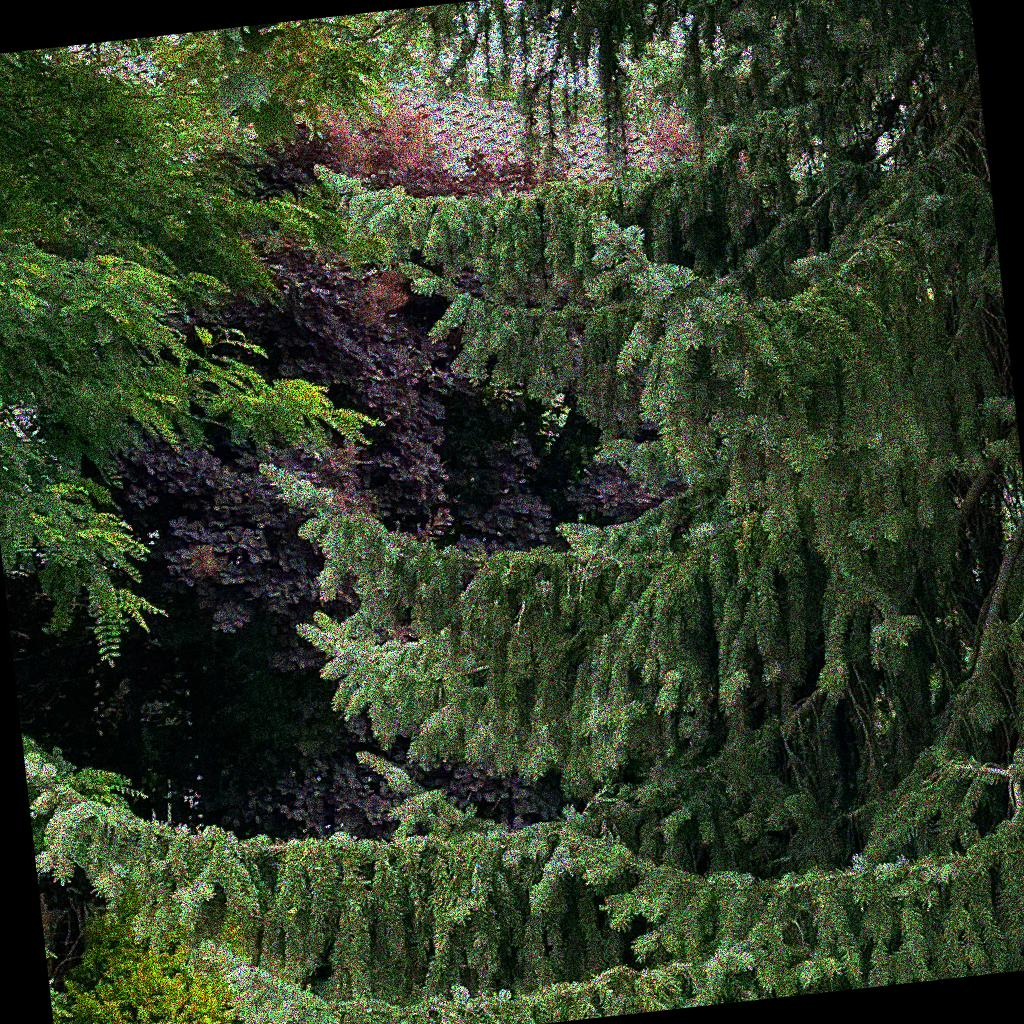tree: (43, 1, 1023, 1023), (120, 93, 700, 840), (1, 1, 430, 666)
